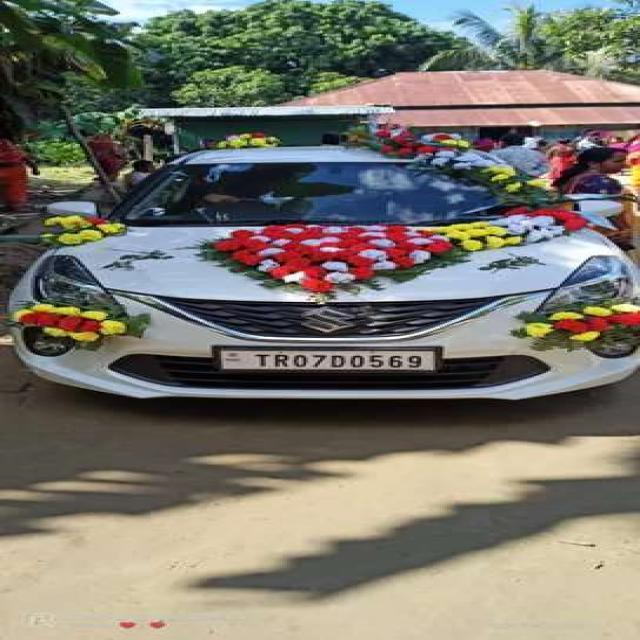licenseplate: (221, 348, 437, 370)
